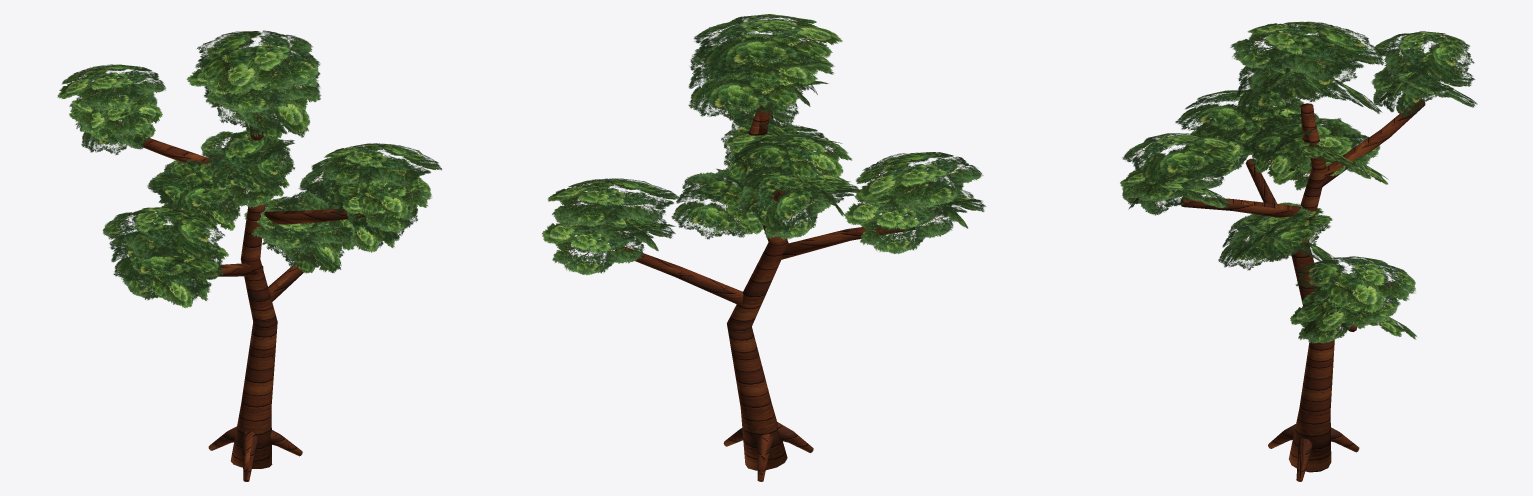
Rendered from tree_pine_bonsai.glb.
The picture shows the model from 3 angles, left to right: view 1: azimuth 30°, elevation 25°; view 2: azimuth 150°, elevation 25°; view 3: azimuth 270°, elevation 25°; orthographic projection. The views are drawn at different scales.
Parts seen in each view (by area): view 1: pine_canopy, pine_trunk; view 2: pine_canopy, pine_trunk; view 3: pine_canopy, pine_trunk.
Boxes of the visible parts, x1,y1,x2,y2 form: pine_canopy: (57,30,441,308); pine_trunk: (134,117,364,481); pine_canopy: (542,14,985,275); pine_trunk: (615,103,915,481); pine_canopy: (1120,21,1477,343); pine_trunk: (1180,99,1425,481).
Size of the model in its own units: 7.97 by 7.54 by 7.15.
2 materials, 2 textured.
